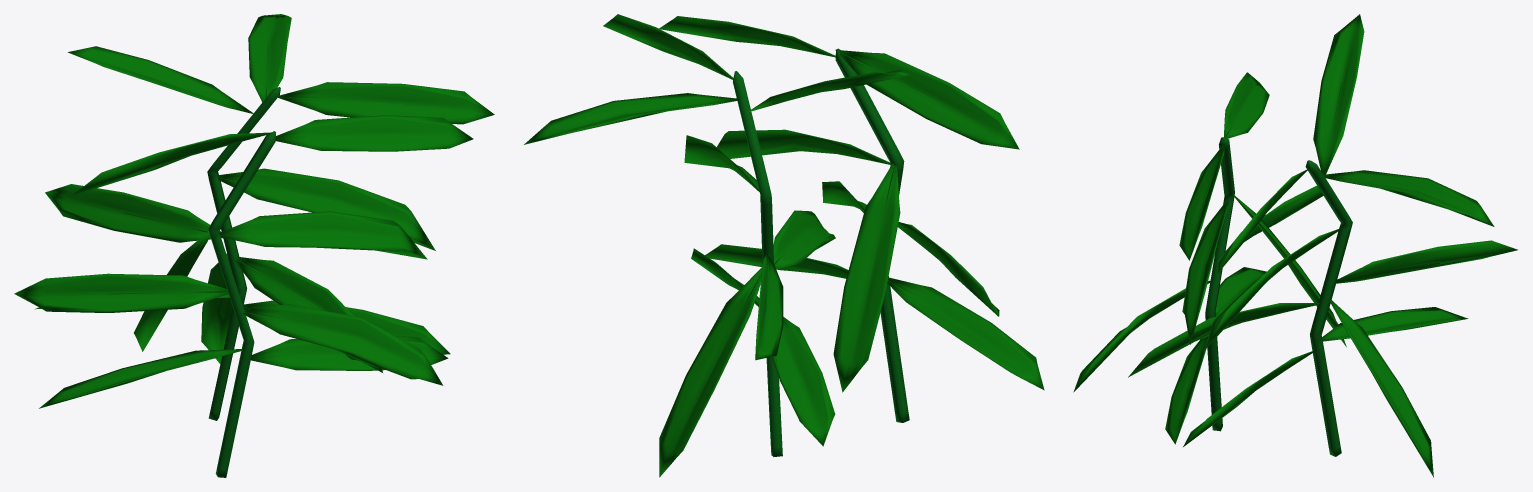
The model's file is Lavande_Croissance_1.fbx.
3 views of the same model, side by side, from view 1: azimuth 30°, elevation 25°; view 2: azimuth 150°, elevation 25°; view 3: azimuth 270°, elevation 25° (orthographic). The views are drawn at different scales.
Visible parts, largest first — view 1: Plane.007, Plane.003, Plane.005, Plane.014, Plane.006, Plane.013, Plane.015, Plane.001, Plane.012, Plane.009, Plane.017, Plane (+6 smaller); view 2: Plane.008, Plane.010, Plane.016, Plane.002, Plane.011, Plane.001, Plane.018, Plane.009, Plane.005, Plane.006, Plane.015, Plane.012 (+7 smaller); view 3: Plane.017, Plane.009, Plane.016, Plane.018, Plane.015, Plane.001, Plane.005, Plane.011, Plane.012, Plane.010, Plane.006, Plane (+7 smaller).
Boxes of the visible parts, x1=… form: Plane.007: x1=14, y1=273, x2=229, y2=312; Plane.003: x1=242, y1=304, x2=443, y2=385; Plane.005: x1=219, y1=211, x2=427, y2=259; Plane.014: x1=278, y1=82, x2=494, y2=124; Plane.006: x1=275, y1=115, x2=473, y2=151; Plane.013: x1=217, y1=168, x2=435, y2=250; Plane.015: x1=45, y1=184, x2=222, y2=242; Plane.001: x1=208, y1=131, x2=275, y2=477; Plane.012: x1=234, y1=256, x2=382, y2=372; Plane.009: x1=207, y1=87, x2=280, y2=420; Plane.017: x1=68, y1=46, x2=253, y2=113; Plane: x1=251, y1=336, x2=448, y2=370; Plane.008: x1=833, y1=163, x2=900, y2=392; Plane.010: x1=835, y1=49, x2=1019, y2=149; Plane.016: x1=659, y1=267, x2=762, y2=477; Plane.002: x1=887, y1=277, x2=1044, y2=390; Plane.011: x1=772, y1=317, x2=835, y2=446; Plane.001: x1=835, y1=48, x2=909, y2=422; Plane.018: x1=524, y1=93, x2=738, y2=144; Plane.009: x1=733, y1=71, x2=782, y2=456; Plane.005: x1=716, y1=129, x2=890, y2=164; Plane.006: x1=659, y1=16, x2=835, y2=57; Plane.015: x1=755, y1=252, x2=783, y2=360; Plane.012: x1=773, y1=210, x2=835, y2=269; Plane.017: x1=1313, y1=14, x2=1364, y2=174; Plane.009: x1=1305, y1=160, x2=1352, y2=456; Plane.016: x1=1329, y1=300, x2=1433, y2=477; Plane.018: x1=1319, y1=170, x2=1494, y2=226; Plane.015: x1=1336, y1=240, x2=1517, y2=283; Plane.001: x1=1205, y1=137, x2=1234, y2=431; Plane.005: x1=1182, y1=200, x2=1228, y2=344; Plane.011: x1=1322, y1=307, x2=1468, y2=341; Plane.012: x1=1128, y1=303, x2=1319, y2=377; Plane.010: x1=1223, y1=72, x2=1269, y2=139; Plane.006: x1=1179, y1=144, x2=1225, y2=260; Plane: x1=1165, y1=336, x2=1208, y2=444.
Bounding box in the file's own units: 638 × 553 × 592.
